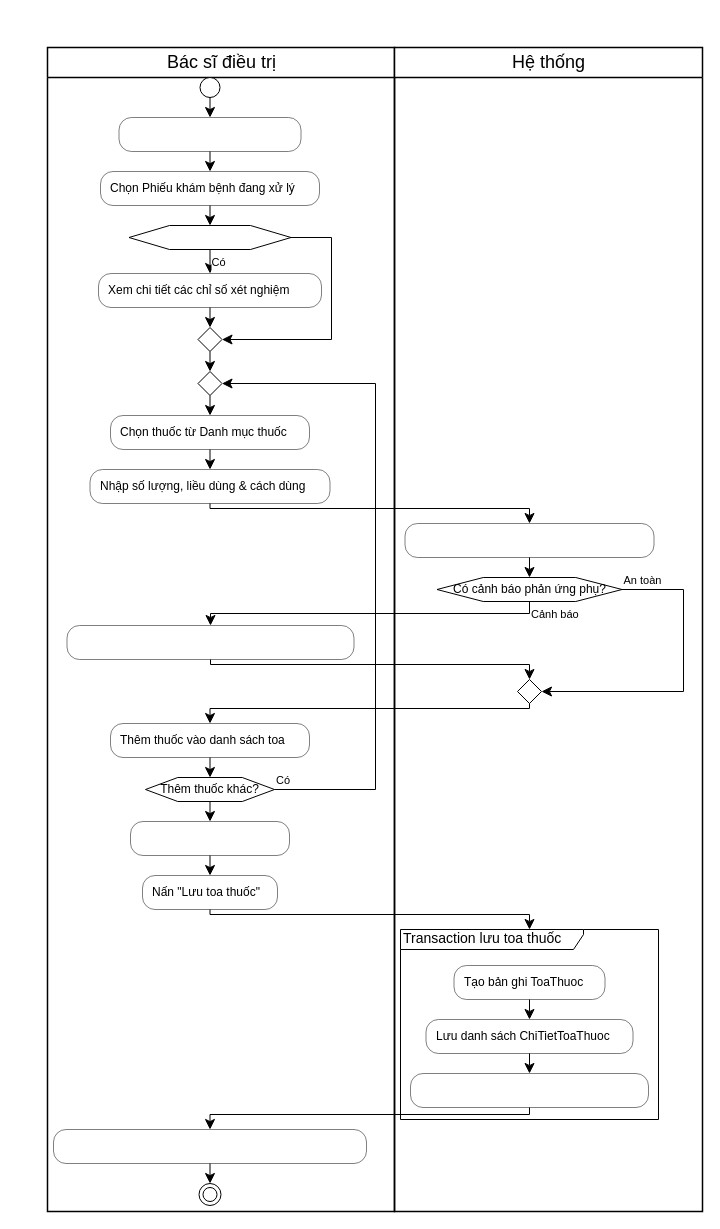
The diagram is 720 pixels wide and 1229 high, and some of its shapes have lost their labels. The box of each missing label's shape, as (x1, y1, x2, y2) in pixels:
Có kết quả xét nghiệm?: (128, 224, 291, 250)
Cập nhật trạng thái Phiếu khám bệnh: (410, 1073, 648, 1107)
In toa thuốc & Chuyển bệnh nhân sang thanh toán: (53, 1129, 366, 1163)
Kiểm tra tiền sử dị ứng / Phản ứng phụ: (404, 523, 654, 557)
Mở màn hình Lập toa thuốc: (118, 117, 301, 151)
Nhập dặn do của bác sĩ: (130, 821, 289, 855)
Xác nhận đổi thuốc hoặc điều chỉnh liều dùng: (66, 625, 354, 659)
